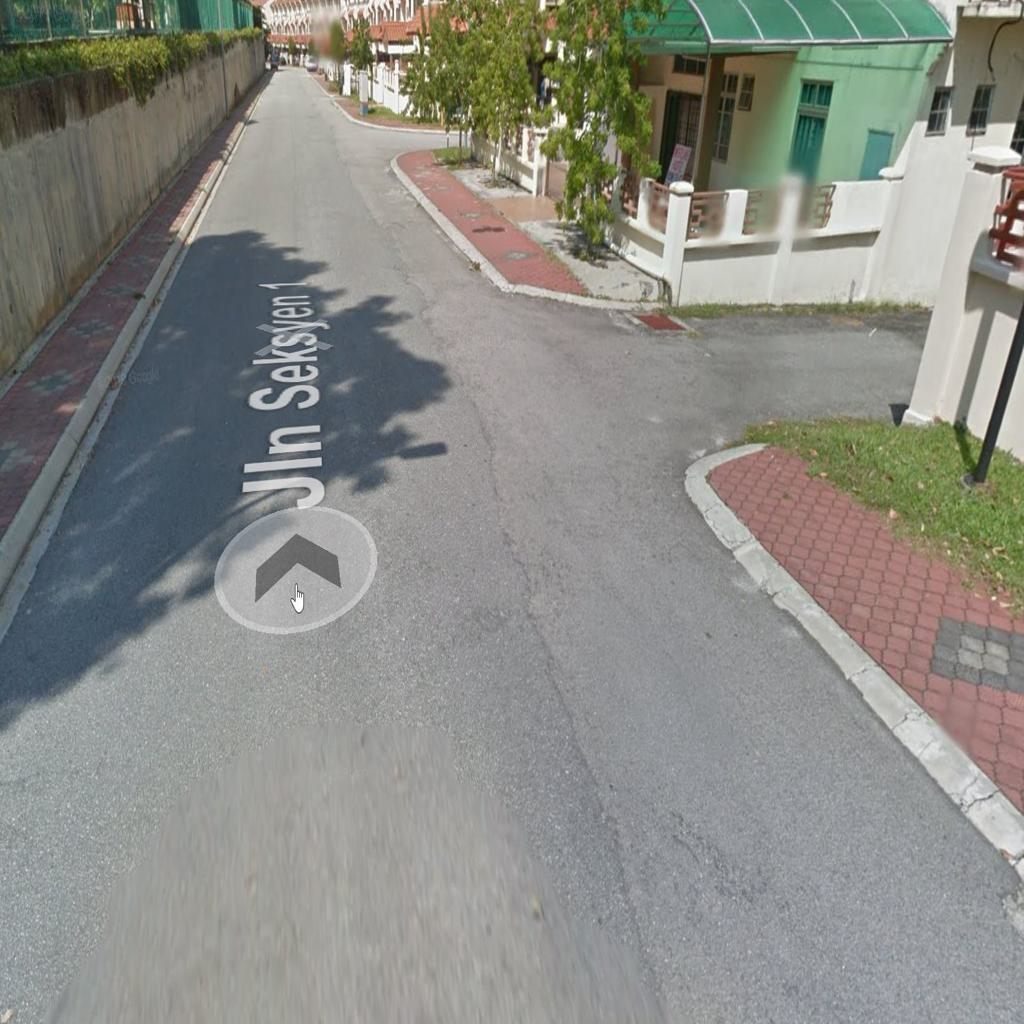Junction: (509, 246, 897, 492), (357, 109, 467, 177)
